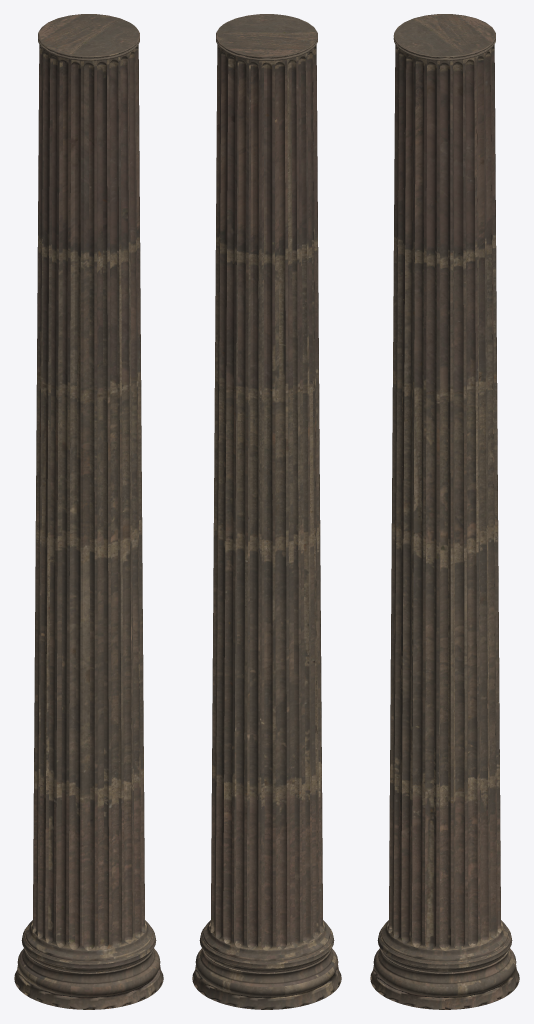
The model's file is PilarAgain.fbx.
The picture shows the model from 3 angles, left to right: view 1: azimuth 30°, elevation 25°; view 2: azimuth 150°, elevation 25°; view 3: azimuth 270°, elevation 25°; orthographic projection.
Visible parts, largest first — view 1: Object_4; view 2: Object_4; view 3: Object_4.
Boxes of the visible parts, x1,y1,x2,y2 form: Object_4: [14, 14, 163, 1009]; Object_4: [192, 14, 341, 1009]; Object_4: [370, 14, 519, 1009].
Size of the model in its own units: 165 by 1150 by 165.
